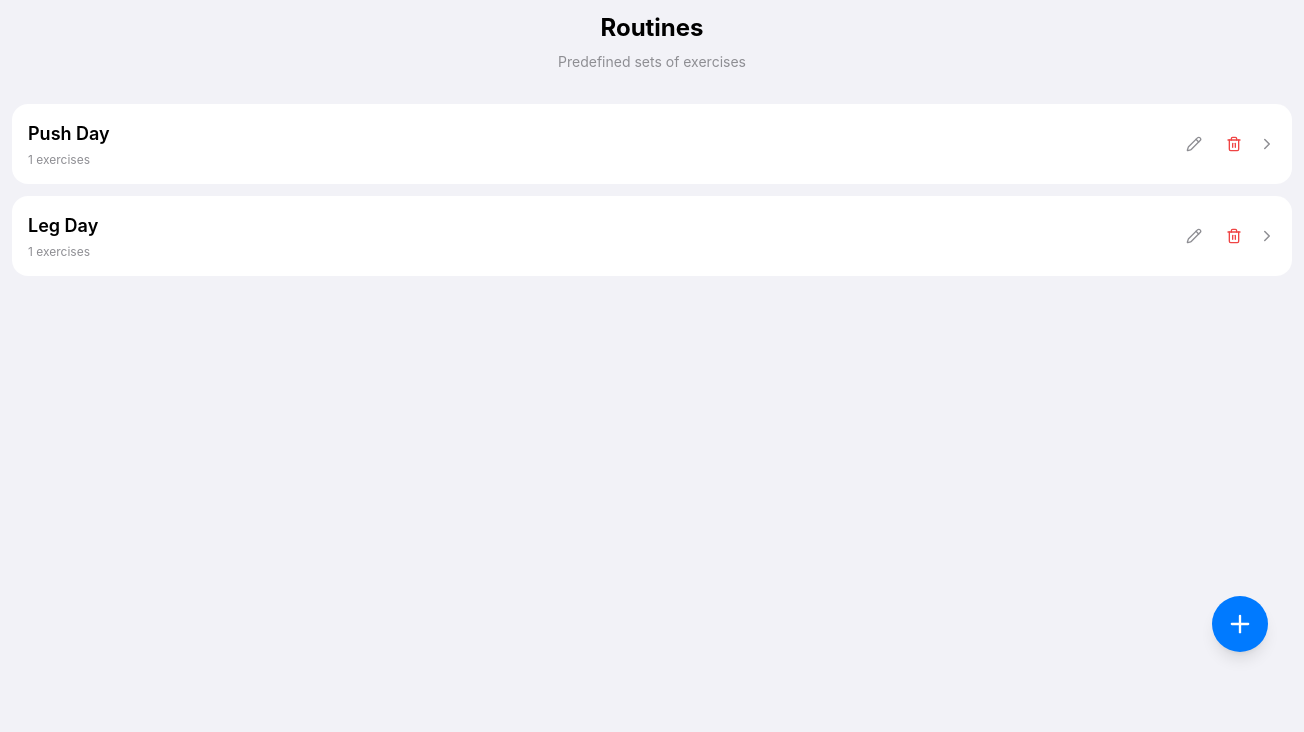
RoutinesScreen › returns to routine list from detail view
What coordinates should you click on to do the following:
click the button named "Push Day"
I would click on:
 (652, 144)
Its box is top-left (12, 104), bottom-right (1292, 184).
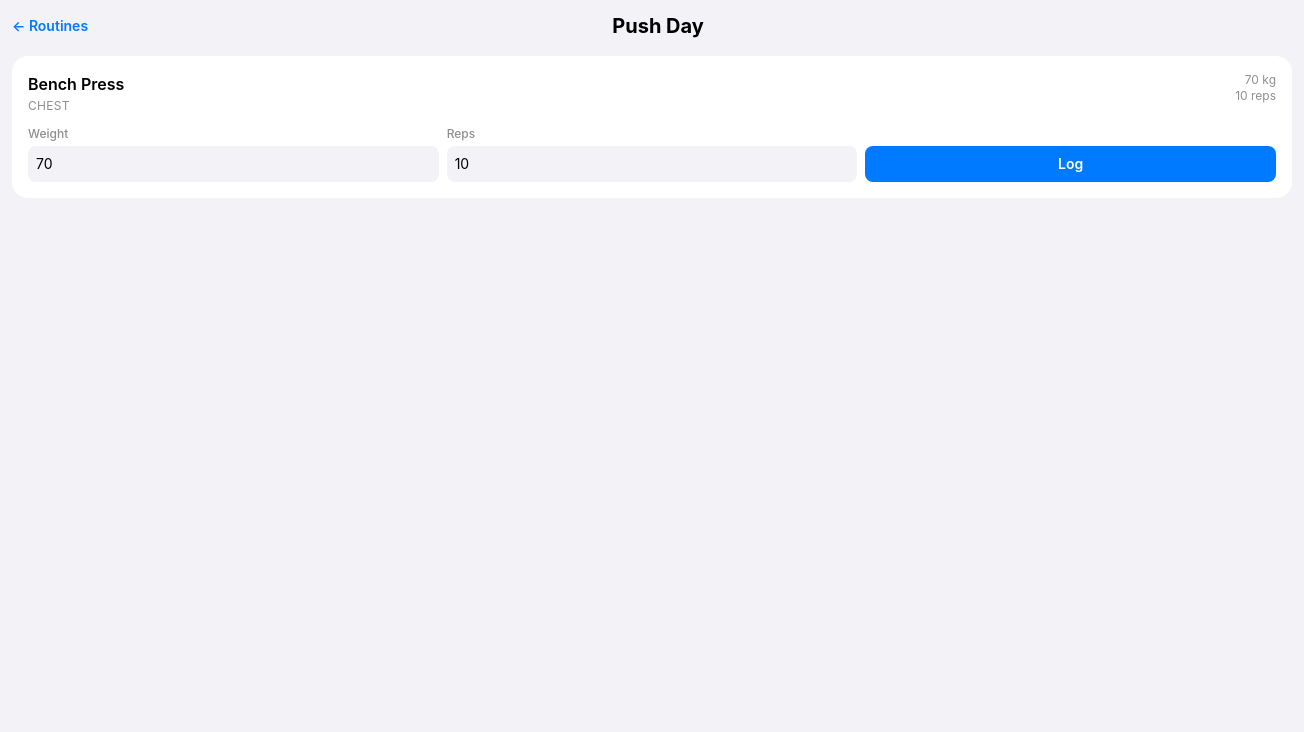
Check: the heading "Bench Press" is shown, box top-left (28, 72), bottom-right (124, 96)
What coordinates should you click on to do the following:
click the button "← Routines"
I would click on:
 (50, 26)
Its box is top-left (12, 16), bottom-right (88, 36).
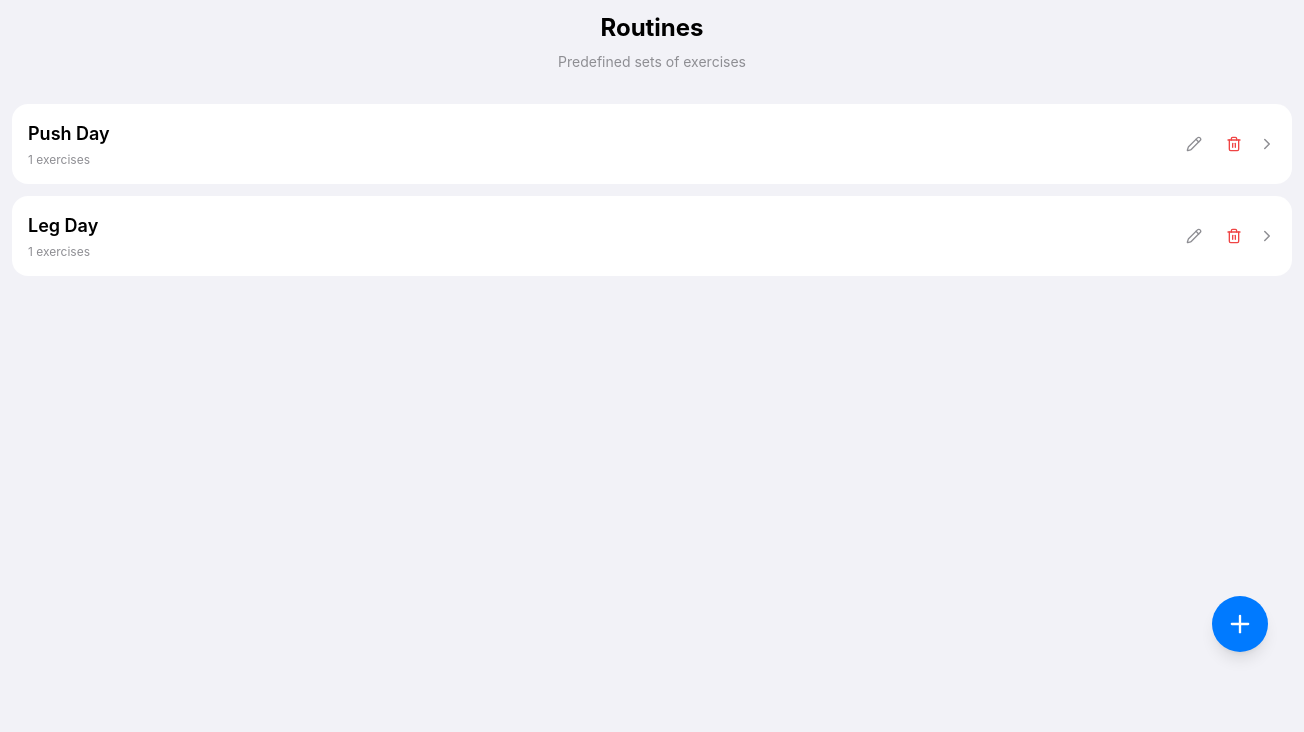
Check: the heading "Leg Day" is shown, box top-left (28, 215), bottom-right (98, 236)
